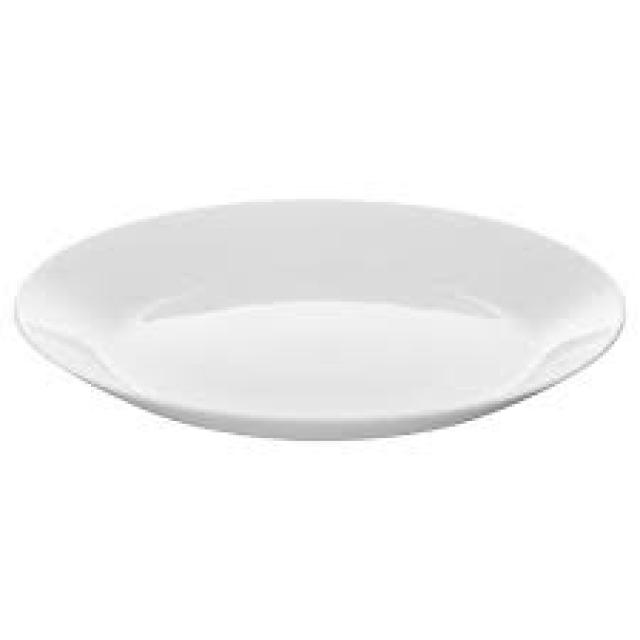Plate: (11, 199, 630, 446)
